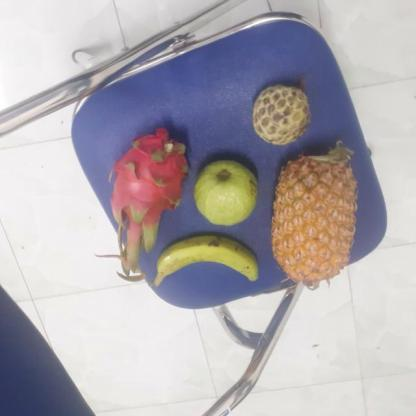annona: (252, 84, 315, 144)
banana: (153, 235, 262, 287)
pear: (195, 158, 263, 225)
pineapple: (272, 143, 360, 288)
pitaya: (110, 134, 192, 250)
